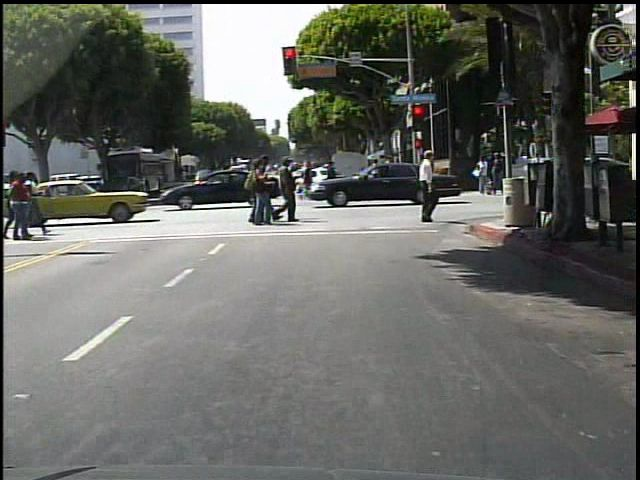person: (405, 141, 447, 232)
